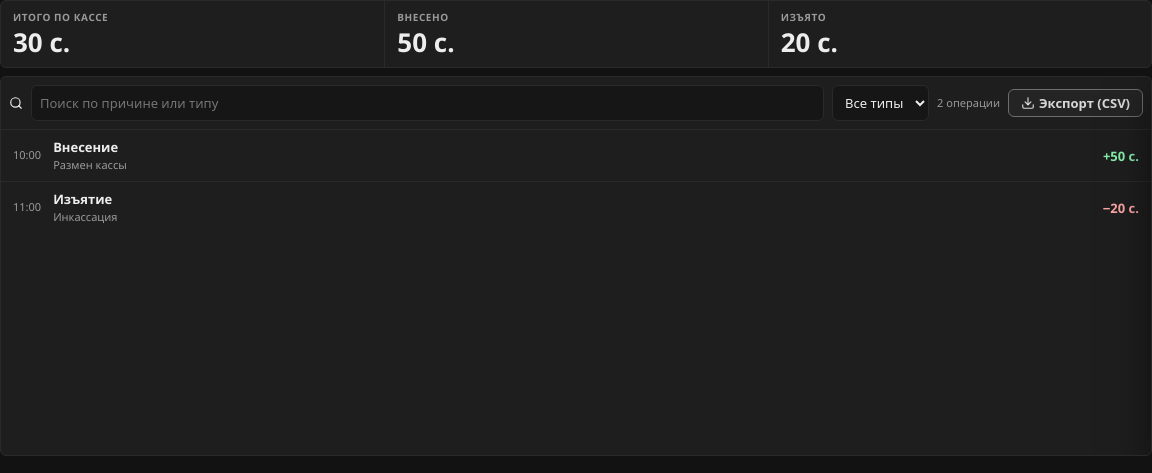
it: CashOperationsLedger › пустой отбор снимается «Сбросить фильтр»: и поиск, и тип
The width and height of the screenshot is (1152, 473).
Expected: the text "Размен кассы" is shown, 53,158 -> 127,173
Select "Изъято" in the dropdown named "Тип операции". click: point(881, 103)
box: 832,85 -> 929,121
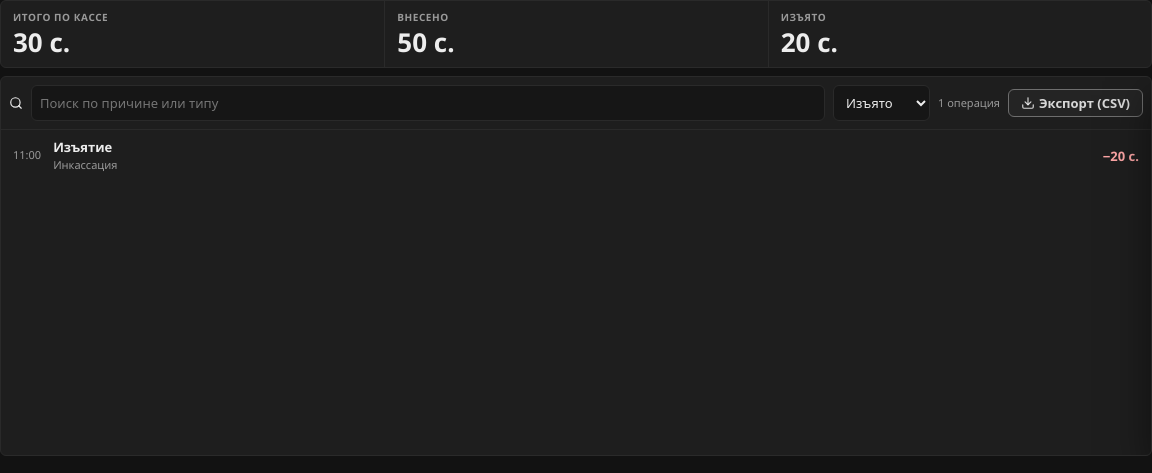
Type "размен" into the field with placeholder "Поиск по причине или типу". click: point(428, 103)
box: 31,85 -> 825,121
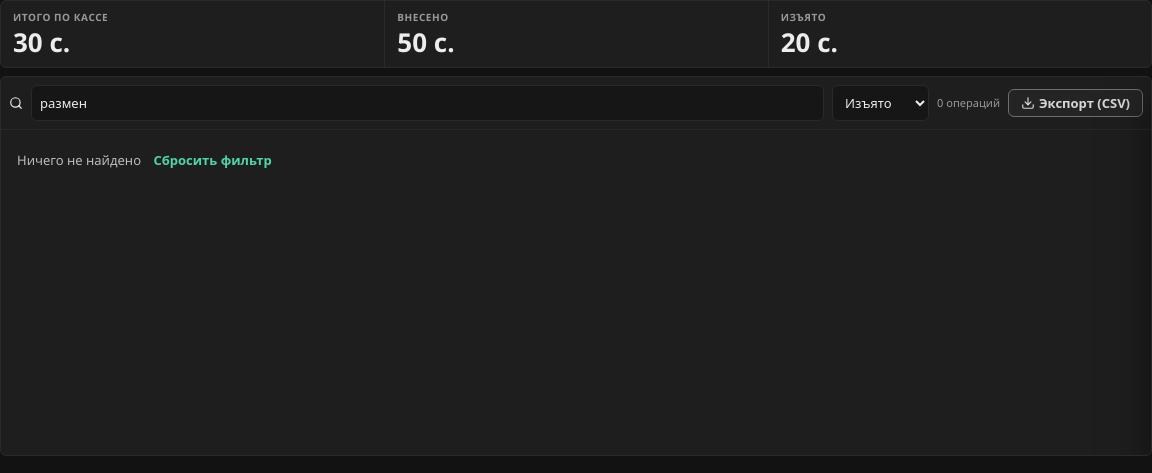
Expected: the text "Ничего не найдено" is shown, 17,151 -> 141,169
Click the button "Сбросить фильтр". click: point(213, 160)
box: 144,146 -> 281,174
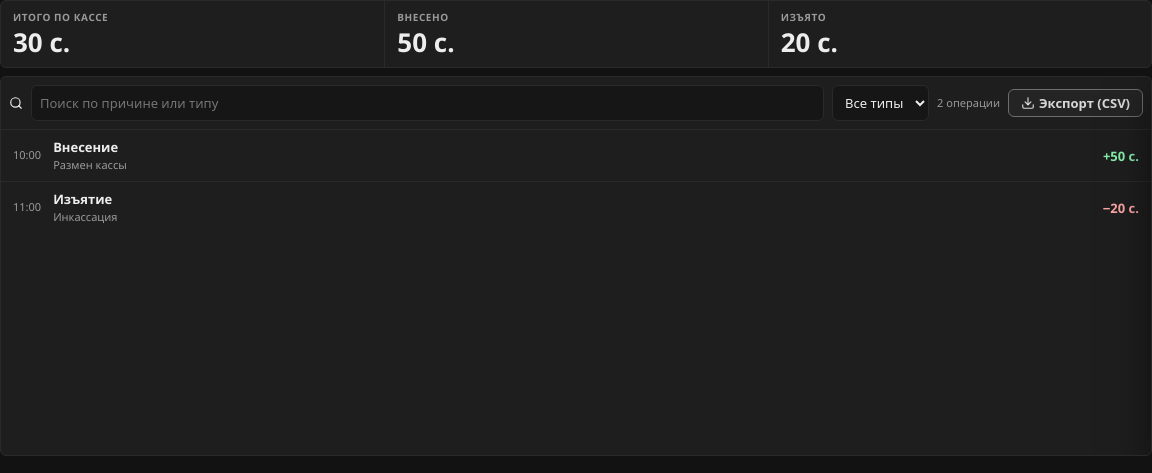
Expected: the text "Размен кассы" is shown, 53,158 -> 127,173
Expected: the text "Инкассация" is shown, 53,210 -> 118,225
